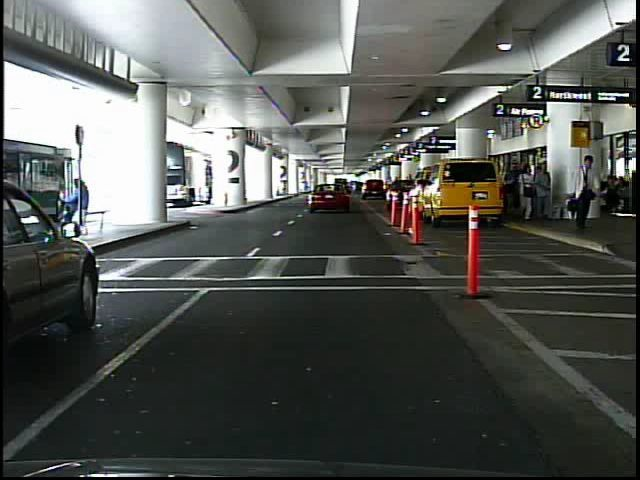person: (566, 156, 599, 232), (534, 162, 555, 220), (516, 163, 534, 223)
